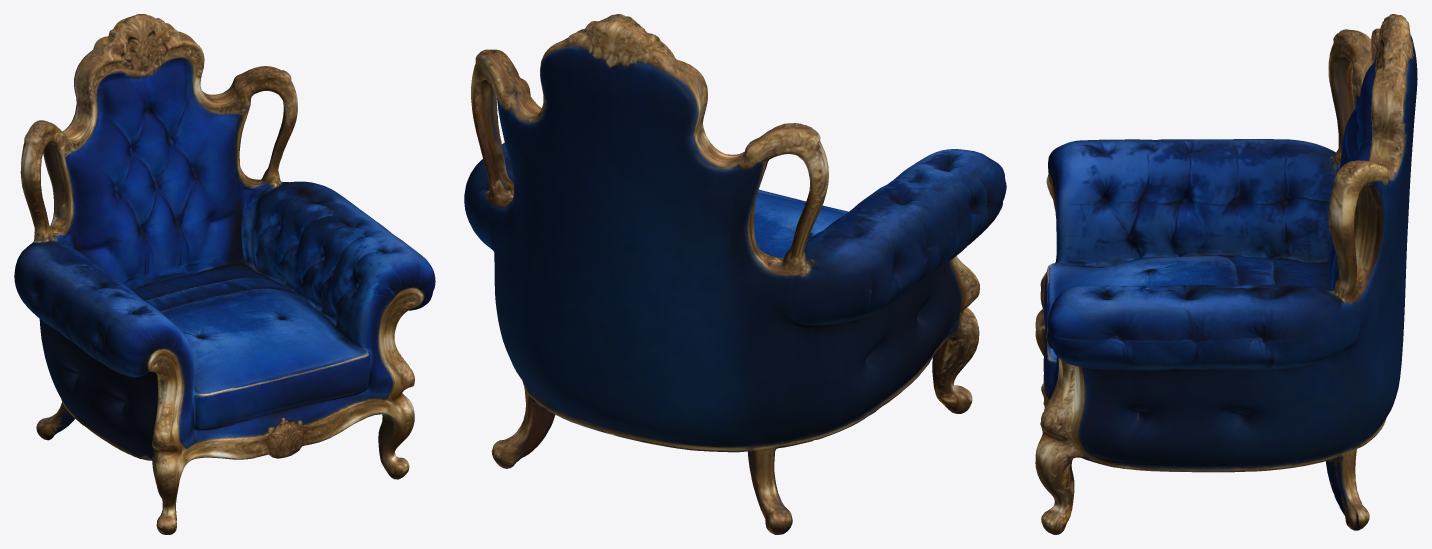
File: armchair2.fbx
3 renders of one model, left to right at view 1: azimuth 30°, elevation 25°; view 2: azimuth 150°, elevation 25°; view 3: azimuth 270°, elevation 25°, orthographic. The views are drawn at different scales.
Visible parts, largest first — view 1: Mesh_0; view 2: Mesh_0; view 3: Mesh_0.
Boxes of the visible parts, x1=… form: Mesh_0: x1=14, y1=14, x2=435, y2=534; Mesh_0: x1=464, y1=14, x2=1006, y2=534; Mesh_0: x1=1035, y1=14, x2=1417, y2=534.
Size of the model in its own units: 176 by 200 by 153.
1 material, 1 textured.
